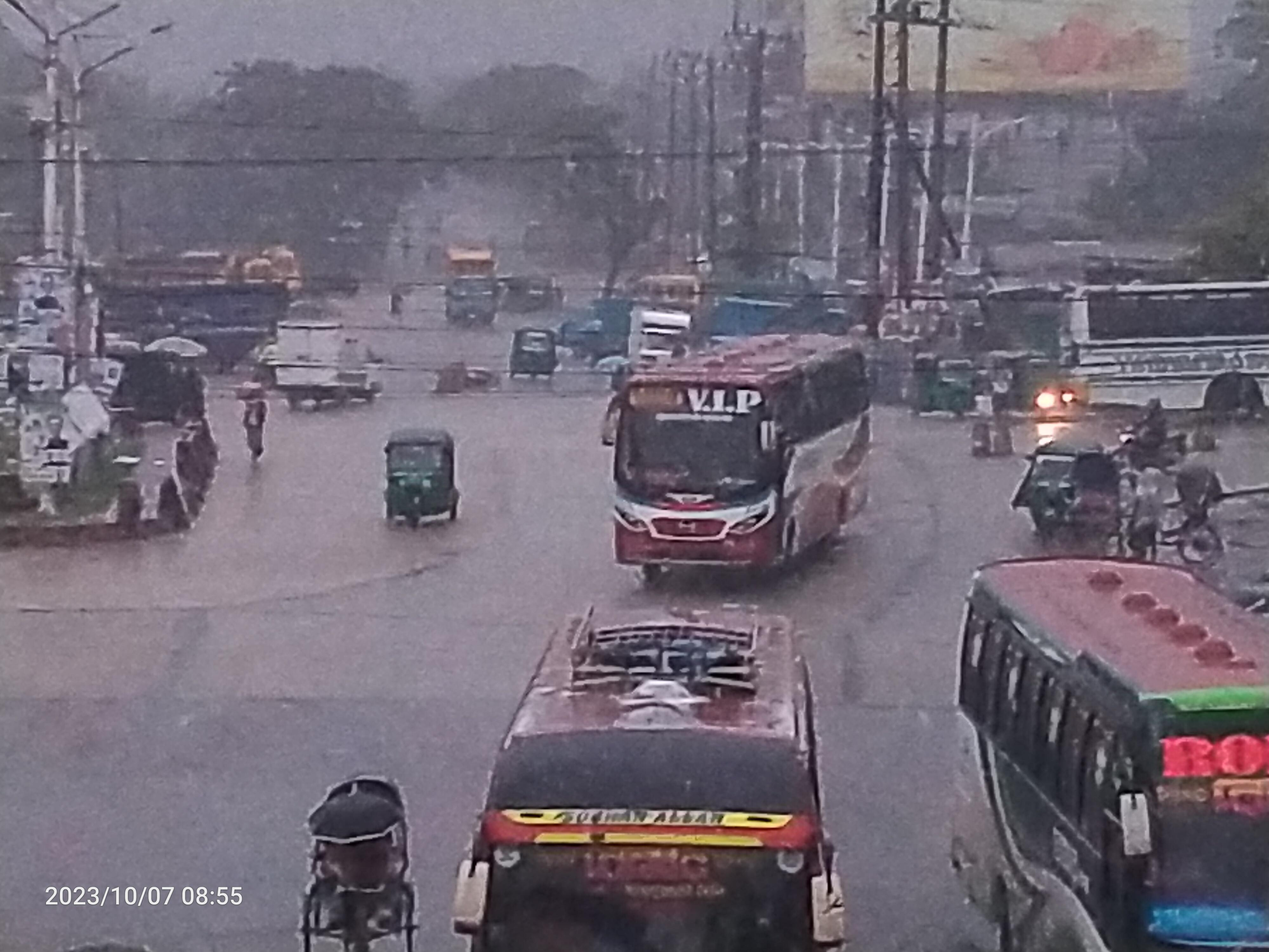Bus: (434, 591, 867, 952), (922, 545, 1269, 952), (586, 321, 898, 615), (1020, 261, 1269, 444)
Car: (290, 754, 438, 952), (267, 307, 402, 424), (618, 284, 696, 387)
Truck: (92, 241, 295, 359), (438, 235, 509, 346)
